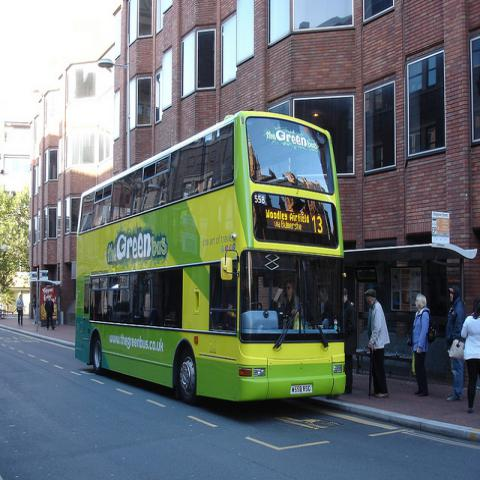bus: (78, 109, 346, 405)
